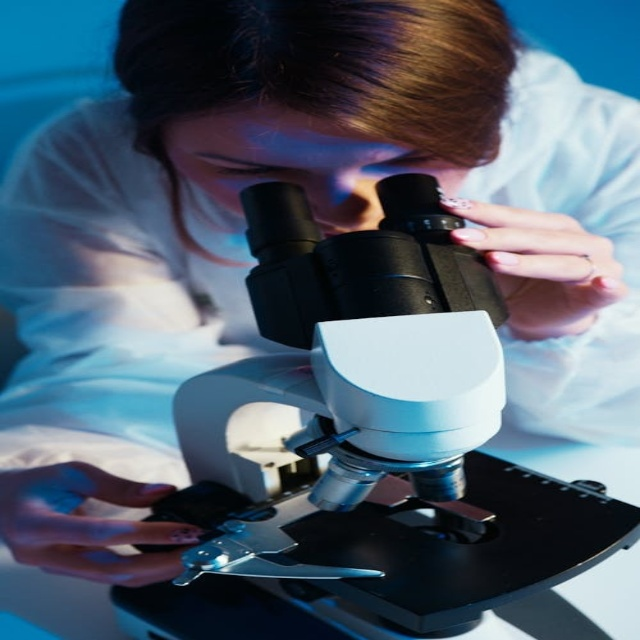Sin_gafas: (193, 133, 458, 184)
Sin_guantes: (434, 194, 631, 333), (1, 458, 206, 586)
